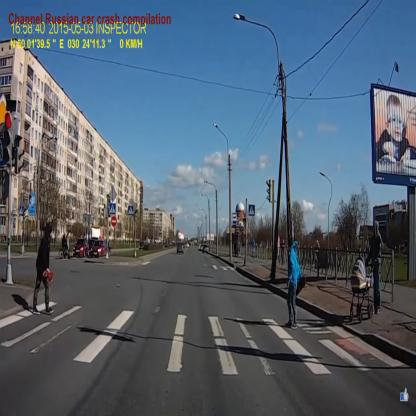crosswalk: (2, 303, 405, 372)
